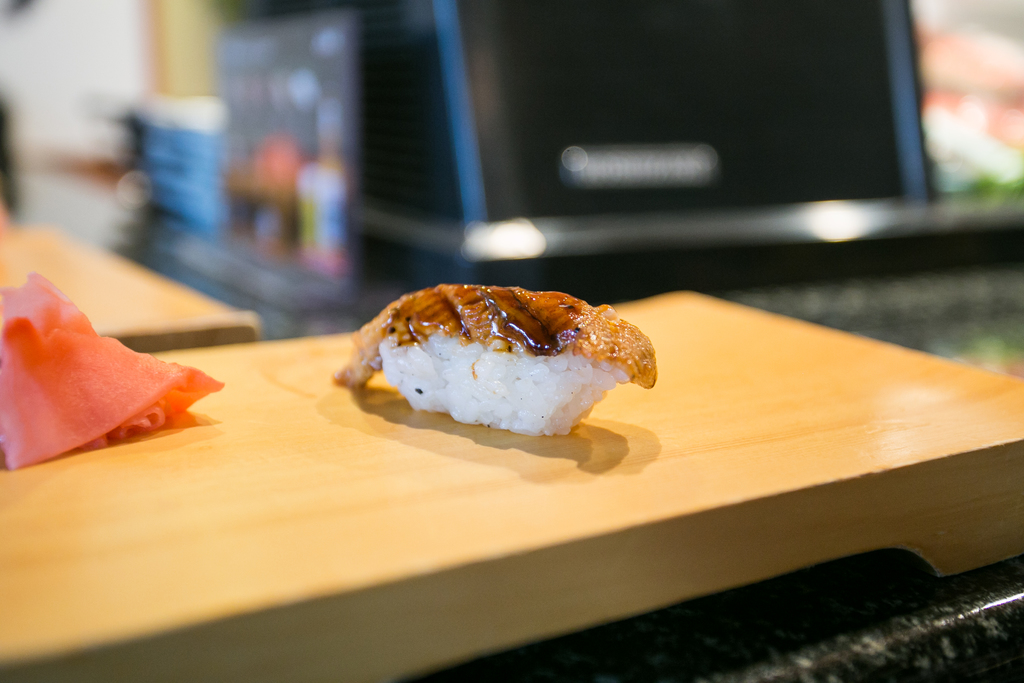sushi: (329, 274, 671, 445)
